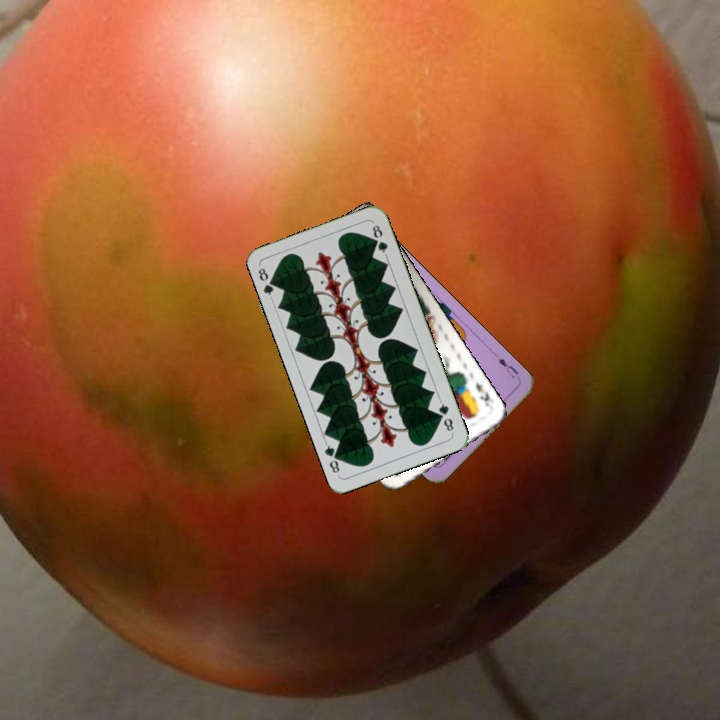EK: (471, 378, 493, 410)
EU: (491, 350, 523, 383)
G8: (254, 262, 280, 302), (434, 396, 456, 436)
